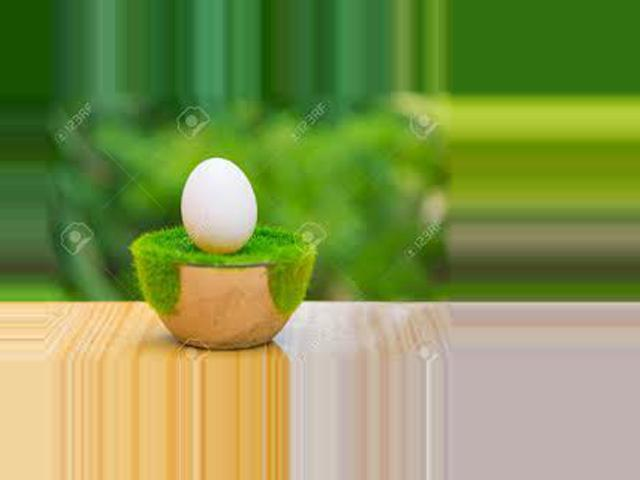egg: (182, 159, 259, 254)
